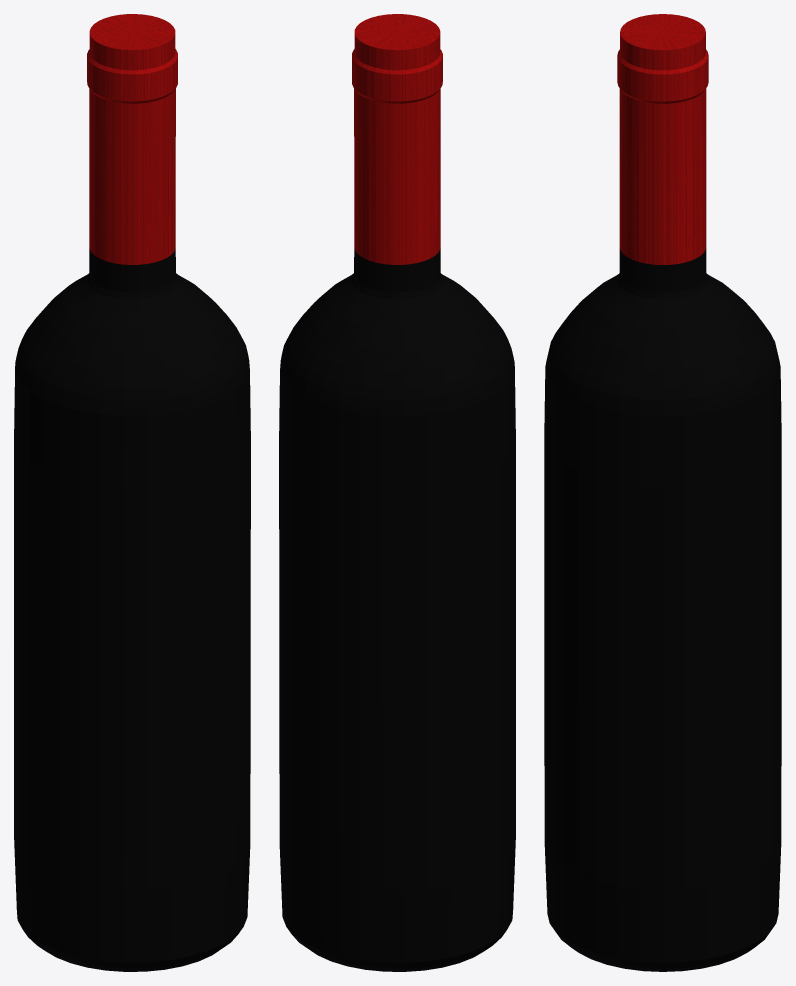
Rendered from bottle1.glb.
The picture shows the model from 3 angles, left to right: view 1: azimuth 30°, elevation 25°; view 2: azimuth 150°, elevation 25°; view 3: azimuth 270°, elevation 25°; orthographic projection.
Visible parts, largest first — view 1: Cylinder; view 2: Cylinder; view 3: Cylinder.
Boxes of the visible parts, x1,y1,x2,y2 form: Cylinder: [14, 14, 250, 971]; Cylinder: [279, 14, 515, 971]; Cylinder: [544, 14, 781, 971].
Bounding box in the file's own units: 0.7451 × 3.11 × 0.7448.
Materials: 2 (1 with a texture image).
